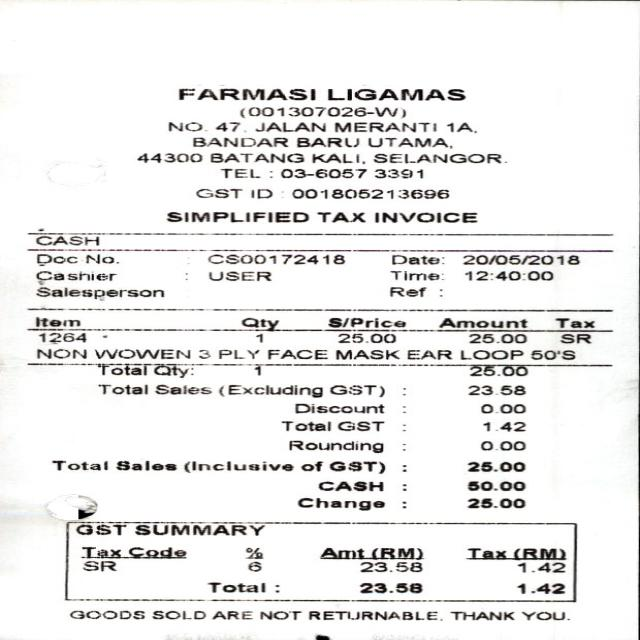text: (236, 105, 402, 116), (34, 285, 162, 298), (324, 88, 462, 100), (177, 88, 314, 99), (208, 252, 342, 263), (288, 188, 445, 197), (166, 210, 307, 220), (133, 524, 261, 535), (306, 610, 438, 620), (318, 546, 422, 558), (218, 384, 321, 396), (287, 439, 382, 452), (372, 153, 504, 162), (375, 210, 475, 221), (437, 316, 528, 328), (183, 460, 292, 470), (466, 548, 564, 559), (295, 497, 383, 509), (461, 254, 578, 263), (294, 402, 384, 413), (191, 136, 286, 146), (93, 348, 188, 358), (208, 152, 302, 162), (332, 121, 434, 130), (464, 270, 551, 280), (280, 168, 364, 178), (368, 136, 450, 146), (34, 270, 114, 280), (326, 316, 405, 326), (66, 608, 140, 618), (327, 459, 383, 472), (34, 234, 100, 245), (466, 364, 526, 376), (336, 347, 398, 358), (327, 384, 383, 396), (135, 152, 200, 162), (317, 479, 382, 489), (266, 347, 325, 358), (447, 610, 510, 620), (253, 121, 322, 130), (357, 561, 419, 571), (357, 581, 419, 591), (388, 254, 443, 265), (154, 382, 209, 393), (208, 581, 263, 592), (127, 546, 186, 556), (466, 384, 524, 394), (466, 460, 524, 470), (466, 479, 524, 489), (279, 420, 331, 431), (293, 137, 355, 146), (208, 271, 270, 280), (458, 348, 520, 357), (387, 270, 442, 280), (112, 460, 172, 469), (97, 382, 145, 393), (337, 420, 385, 431), (336, 332, 394, 341), (466, 332, 524, 341), (466, 498, 524, 507), (311, 153, 363, 163), (32, 315, 79, 326), (38, 332, 85, 343), (517, 561, 564, 572), (96, 364, 146, 374), (315, 210, 363, 220), (152, 366, 192, 378), (74, 524, 122, 534), (513, 582, 561, 592), (52, 460, 105, 469), (374, 168, 421, 178), (240, 317, 276, 330), (33, 252, 75, 263), (554, 316, 595, 327), (33, 348, 83, 357), (193, 188, 241, 197), (480, 402, 523, 412), (79, 546, 122, 556), (151, 610, 203, 618), (529, 348, 574, 357), (518, 610, 567, 618), (219, 168, 258, 178), (407, 348, 450, 357), (480, 440, 523, 449), (479, 421, 521, 430), (258, 610, 299, 619), (443, 120, 473, 132), (218, 348, 257, 357), (389, 286, 424, 296), (82, 559, 115, 569), (210, 610, 251, 618), (560, 332, 590, 342), (167, 121, 200, 130), (85, 252, 114, 262), (300, 460, 321, 470), (244, 546, 261, 558), (214, 121, 238, 129), (250, 188, 270, 197), (198, 348, 209, 358), (248, 561, 259, 571), (252, 332, 261, 342), (253, 365, 261, 374)
